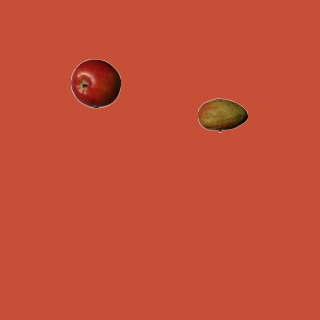Apple Braeburn: (70, 58, 120, 108)
Papaya: (197, 90, 247, 140)
